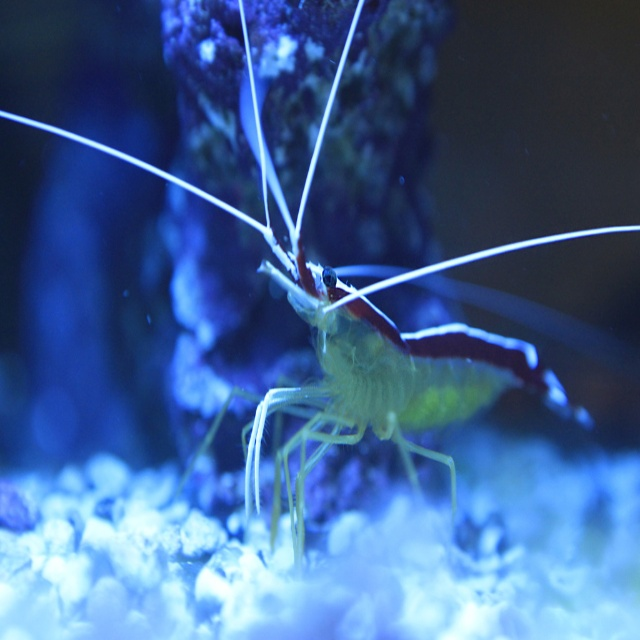Shrimp: (0, 0, 640, 580)
